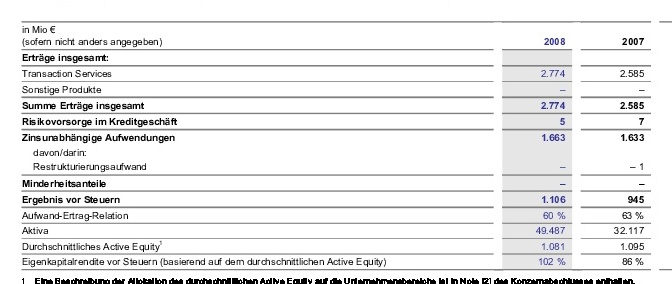table: (0, 0, 672, 284)
